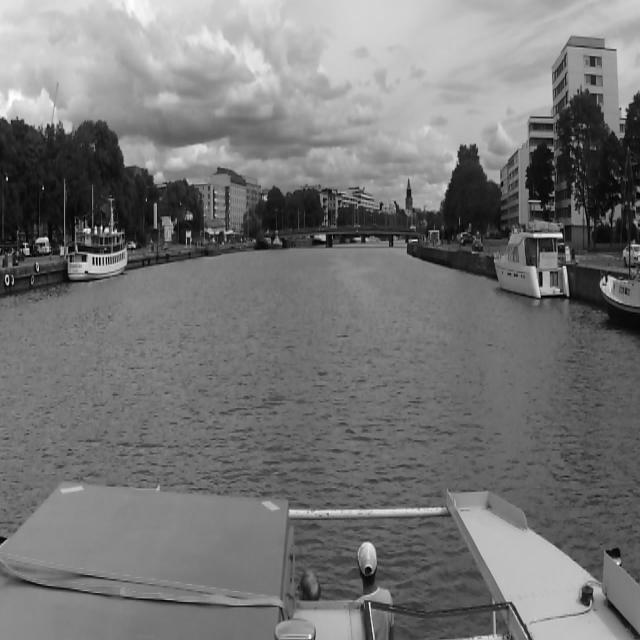ship: (598, 157, 640, 336), (492, 212, 572, 298), (64, 198, 128, 278), (256, 228, 271, 248), (271, 234, 283, 252), (208, 243, 220, 254)
